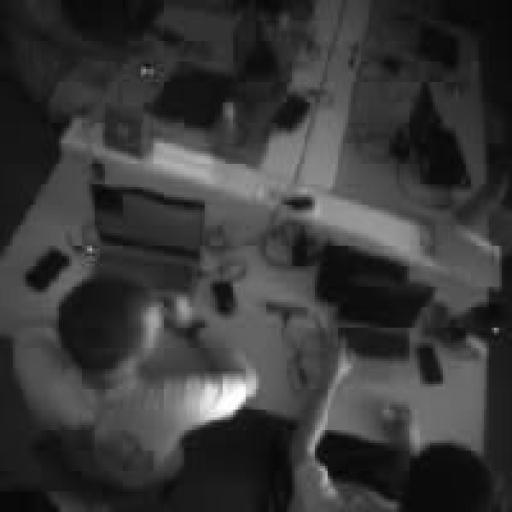human: (13, 274, 258, 488), (290, 344, 494, 511), (0, 0, 163, 120)
